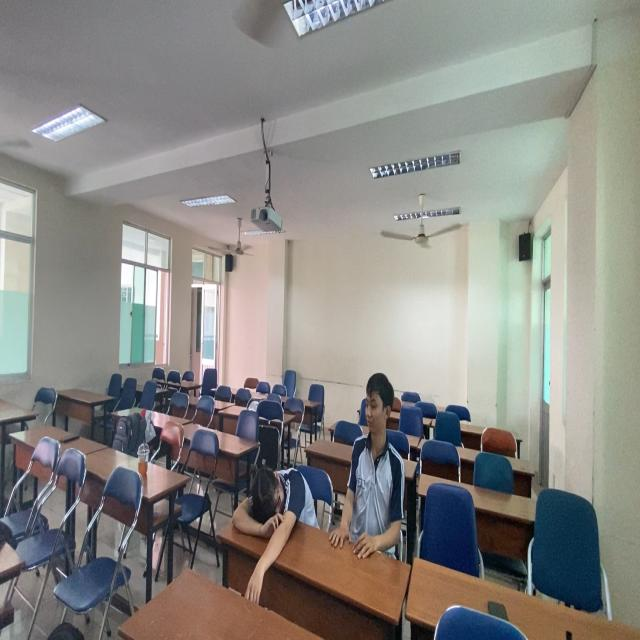sleep: (233, 454, 320, 541)
